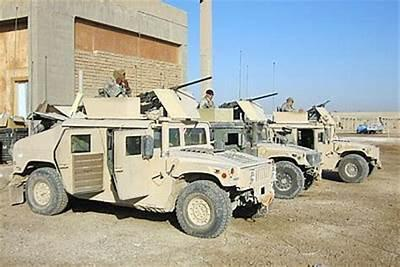armored_car: (8, 72, 279, 238)
